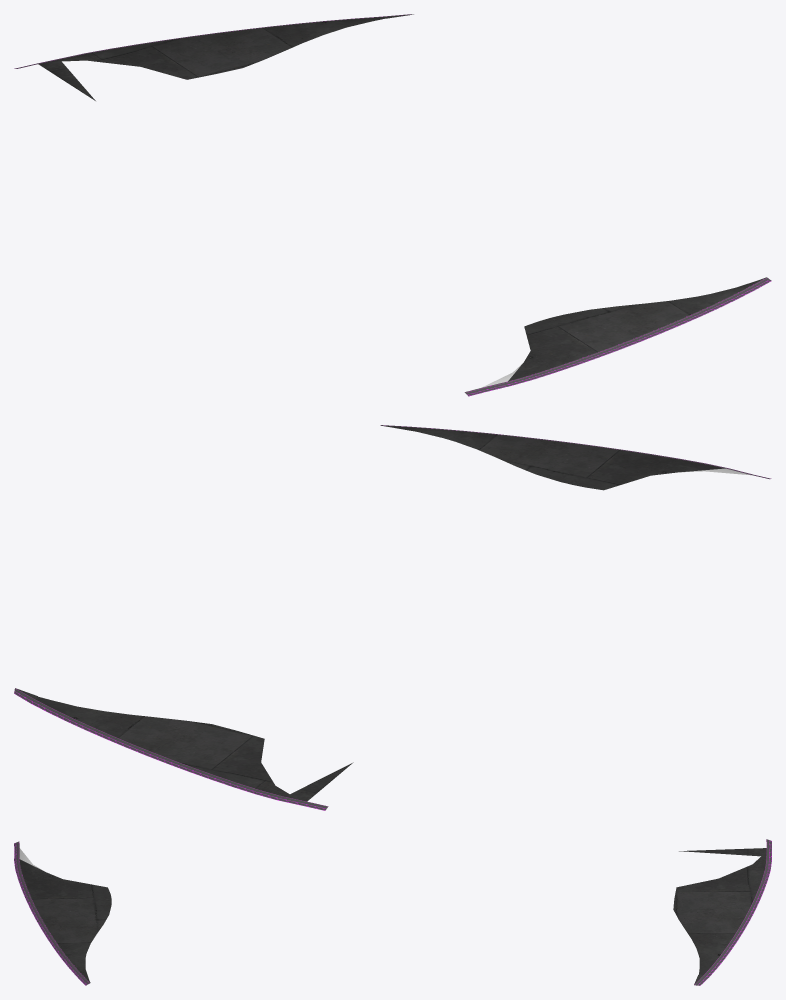
File: Egg_Shape.fbx
The picture shows the model from 3 angles, top to bottom: view 1: azimuth 30°, elevation 25°; view 2: azimuth 150°, elevation 25°; view 3: azimuth 270°, elevation 25°; orthographic projection. The views are drawn at different scales.
Parts seen in each view (by area): view 1: Egg_Shape; view 2: Egg_Shape; view 3: Egg_Shape.
Boxes of the visible parts, x1=… form: Egg_Shape: x1=14, y1=14, x2=771, y2=396; Egg_Shape: x1=14, y1=425, x2=771, y2=810; Egg_Shape: x1=14, y1=839, x2=771, y2=985.
Size of the model in its own units: 1843 by 16.03 by 4046.
